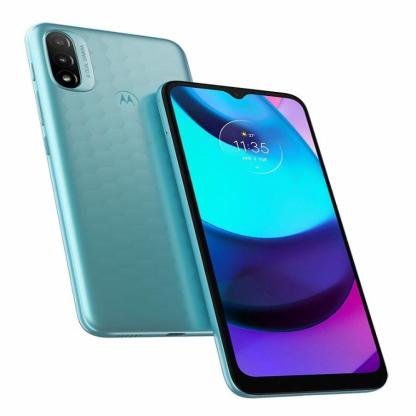SMARTPHONE: (20, 17, 397, 407)
